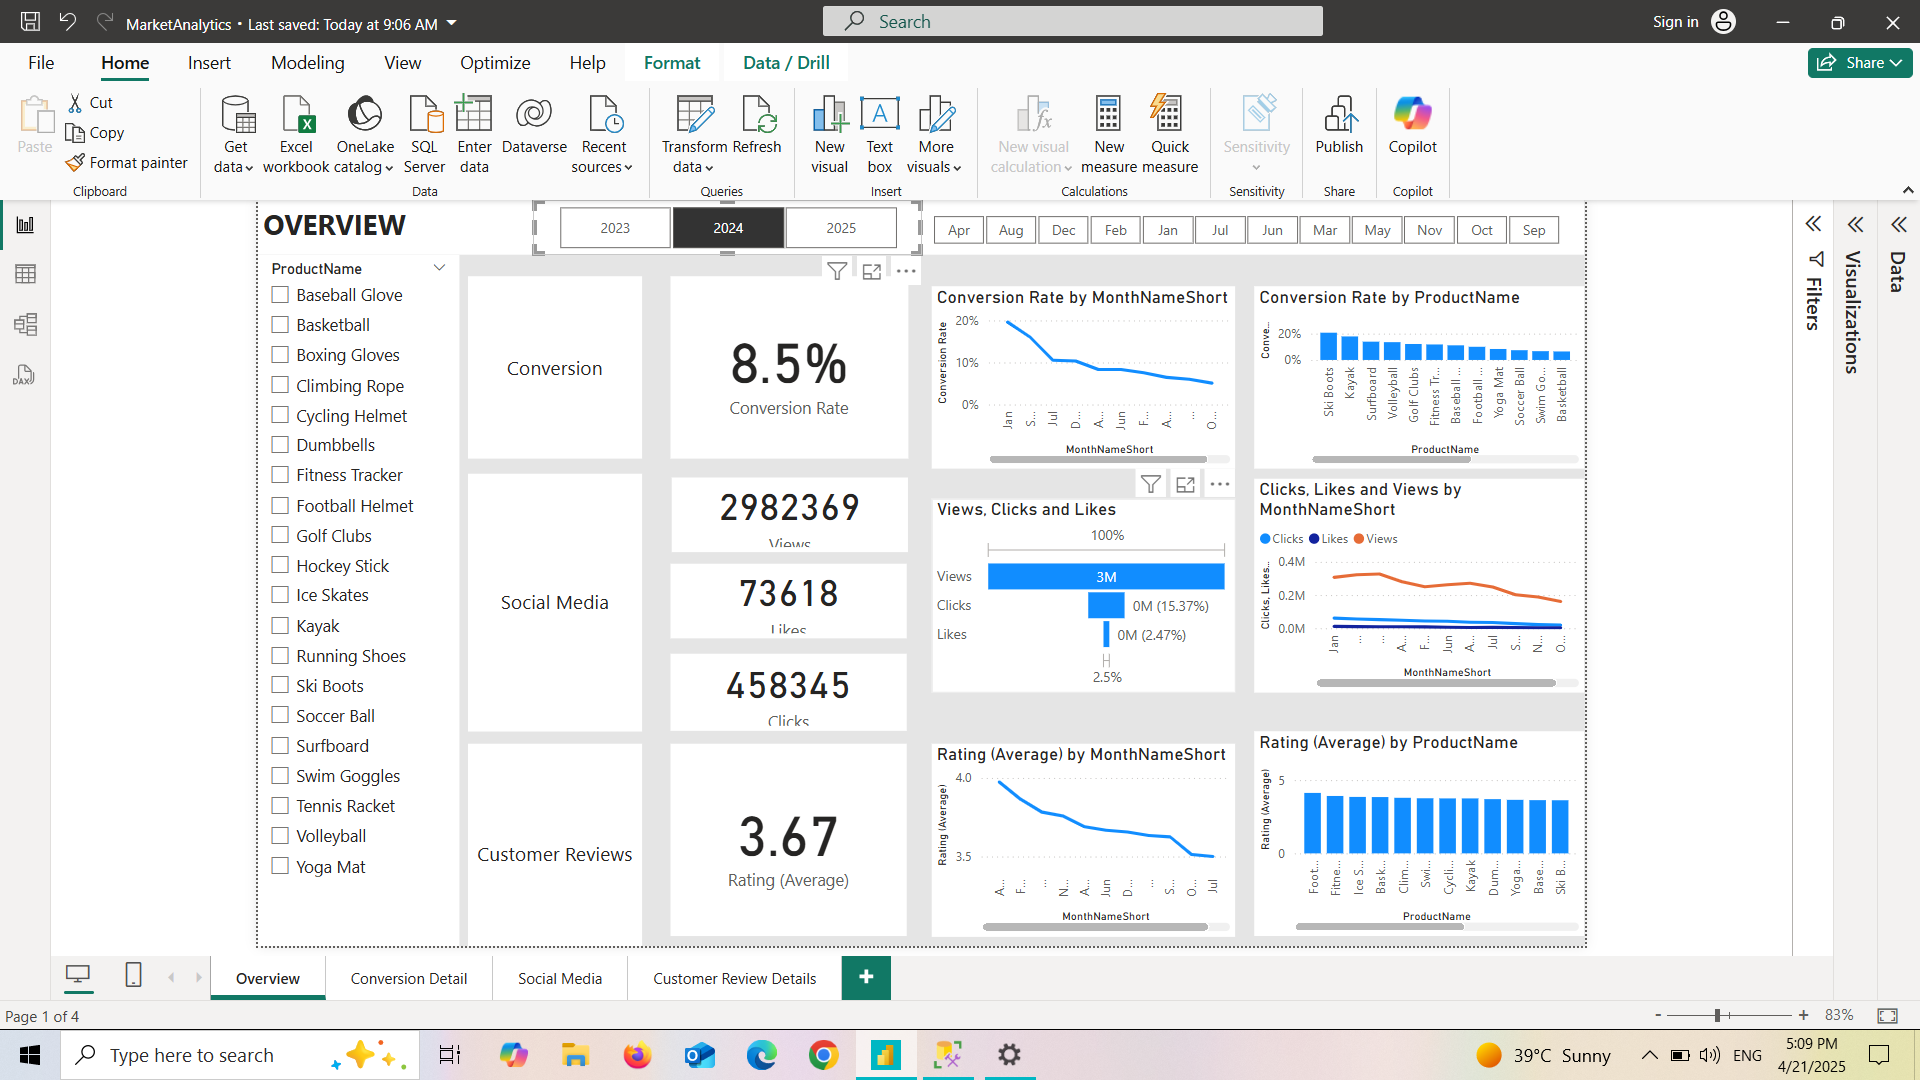

This screenshot's page, from the dashboard's own definition file:
{"tool":"powerbi","page":{"name":"Overview","canvas":[1280,720],"ordinal":0},"visuals":[{"type":"textbox","box":[0,0,1280,53.1],"z":0},{"type":"slicer","fields":{"Values":["dm_products.ProductName"]},"box":[0,53.1,194.2,667.2],"z":1000},{"type":"textbox","box":[202.7,73.6,167.7,176.1],"z":2000},{"type":"textbox","box":[202.7,264.2,167.7,248.5],"z":3000},{"type":"textbox","box":[202.7,524.8,167.7,195.4],"z":4000},{"type":"card","fields":{"Values":["_Calculations.Conversion Rate"]},"box":[398.1,73.6,229.2,176.1],"z":5000},{"type":"card","fields":{"Values":["_Calculations.Views"]},"box":[399.3,267.8,228,72.4],"z":6000},{"type":"card","fields":{"Values":["_Calculations.Likes"]},"box":[398.1,351.1,228,72.4],"z":7000},{"type":"card","fields":{"Values":["_Calculations.Clicks"]},"box":[398.1,437.9,228,74.8],"z":8000},{"type":"card","fields":{"Values":["_Calculations.Rating (Average)"]},"box":[398.1,524.8,228,185.8],"z":9000},{"type":"slicer","fields":{"Values":["Calendar.Year"]},"box":[265.4,0,375.2,53.1],"z":10000},{"type":"slicer","fields":{"Values":["Calendar.MonthNameShort"]},"box":[626.1,8.4,653.9,36.2],"z":11000},{"type":"clusteredColumnChart","fields":{"Category":["dm_products.ProductName"],"Y":["_Calculations.Conversion Rate"]},"box":[961.5,83.2,318.5,176.1],"z":12000},{"type":"lineChart","fields":{"Y":["_Calculations.Conversion Rate"],"Category":["Calendar.MonthNameShort"]},"box":[650.3,83.2,293.2,176.1],"z":13000},{"type":"lineChart","fields":{"Category":["Calendar.MonthNameShort"],"Y":["_Calculations.Clicks","_Calculations.Likes","_Calculations.Views"]},"box":[961.5,269,318.5,206.3],"z":14000},{"type":"funnel","fields":{"Y":["_Calculations.Views","_Calculations.Clicks","_Calculations.Likes"]},"box":[650.3,288.3,293.2,187],"z":15000},{"type":"lineChart","fields":{"Category":["Calendar.MonthNameShort"],"Y":["_Calculations.Rating (Average)"]},"box":[650,525,293,186],"z":16000},{"type":"clusteredColumnChart","fields":{"Category":["dm_products.ProductName"],"Y":["_Calculations.Rating (Average)"]},"box":[961.5,512.7,318.5,197.9],"z":17000}]}

Visuals, with their boxes on the page's 1280x720 design canvas (x1, y1, x2, y2). These are canvas units, not pixel positions in the 1920x1080 screenshot, which may show the page scaled, cropped or inside an application window:
textbox: detection(0, 0, 1280, 53)
slicer - dm_products.ProductName: detection(0, 53, 194, 720)
textbox: detection(203, 74, 370, 250)
textbox: detection(203, 264, 370, 513)
textbox: detection(203, 525, 370, 720)
card - _Calculations.Conversion Rate: detection(398, 74, 627, 250)
card - _Calculations.Views: detection(399, 268, 627, 340)
card - _Calculations.Likes: detection(398, 351, 626, 424)
card - _Calculations.Clicks: detection(398, 438, 626, 513)
card - _Calculations.Rating (Average): detection(398, 525, 626, 711)
slicer - Calendar.Year: detection(265, 0, 641, 53)
slicer - Calendar.MonthNameShort: detection(626, 8, 1280, 45)
clusteredColumnChart - dm_products.ProductName x _Calculations.Conversion Rate: detection(962, 83, 1280, 259)
lineChart - _Calculations.Conversion Rate x Calendar.MonthNameShort: detection(650, 83, 944, 259)
lineChart - Calendar.MonthNameShort x _Calculations.Clicks: detection(962, 269, 1280, 475)
funnel - _Calculations.Views x _Calculations.Clicks: detection(650, 288, 944, 475)
lineChart - Calendar.MonthNameShort x _Calculations.Rating (Average): detection(650, 525, 943, 711)
clusteredColumnChart - dm_products.ProductName x _Calculations.Rating (Average): detection(962, 513, 1280, 711)
